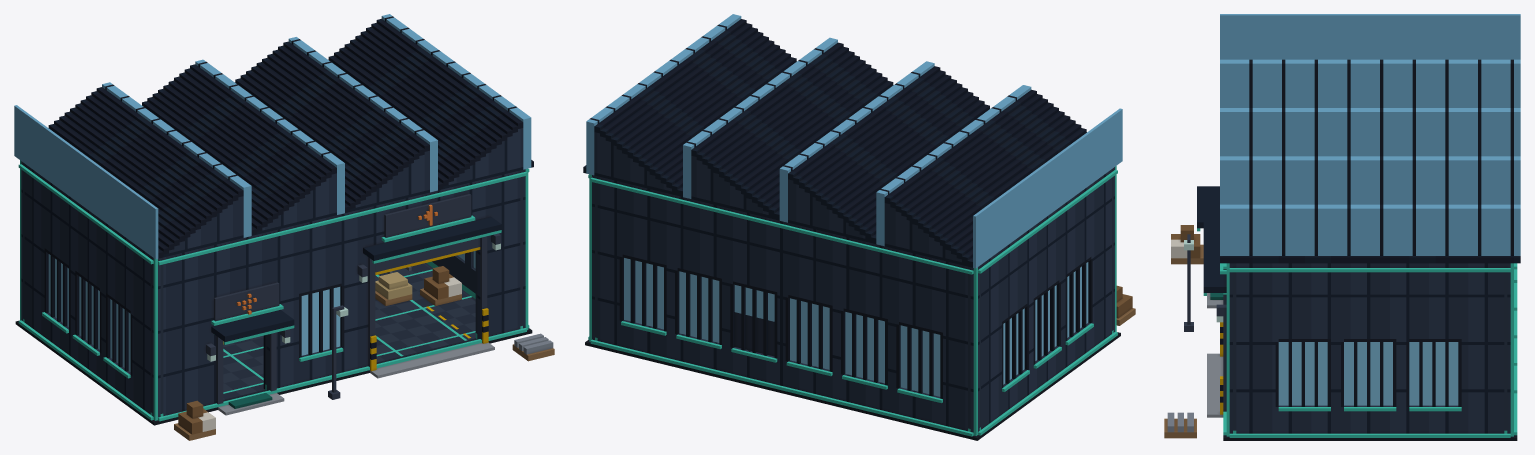
File: factory_e4_l1.glb
3 renders of one model, left to right at view 1: azimuth 30°, elevation 25°; view 2: azimuth 150°, elevation 25°; view 3: azimuth 270°, elevation 25°, orthographic. The views are drawn at different scales.
Visible parts, largest first — view 1: CutRoof, CutPZ, Base, CutNX, CutNZ; view 2: CutRoof, CutNZ, CutNX, Base, CutPZ; view 3: CutRoof, CutPX, Base, CutPZ, CutNZ.
Boxes of the visible parts, box(x1,y1,x2,y2) form: CutRoof: box(14, 14, 533, 259); CutPZ: box(150, 168, 528, 395); Base: box(15, 256, 554, 440); CutNX: box(18, 164, 153, 392); CutNZ: box(20, 160, 24, 299); CutRoof: box(583, 14, 1122, 268); CutNZ: box(589, 174, 980, 409); CutNX: box(978, 169, 1117, 406); Base: box(585, 285, 1135, 440); CutPZ: box(1112, 166, 1116, 310); CutRoof: box(1220, 14, 1520, 263); CutPX: box(1229, 263, 1510, 411); Base: box(1164, 225, 1517, 440); CutPZ: box(1197, 186, 1236, 409); CutNZ: box(1504, 263, 1517, 409).
Size of the model in its own units: 14.2 by 7.8 by 10.9.
